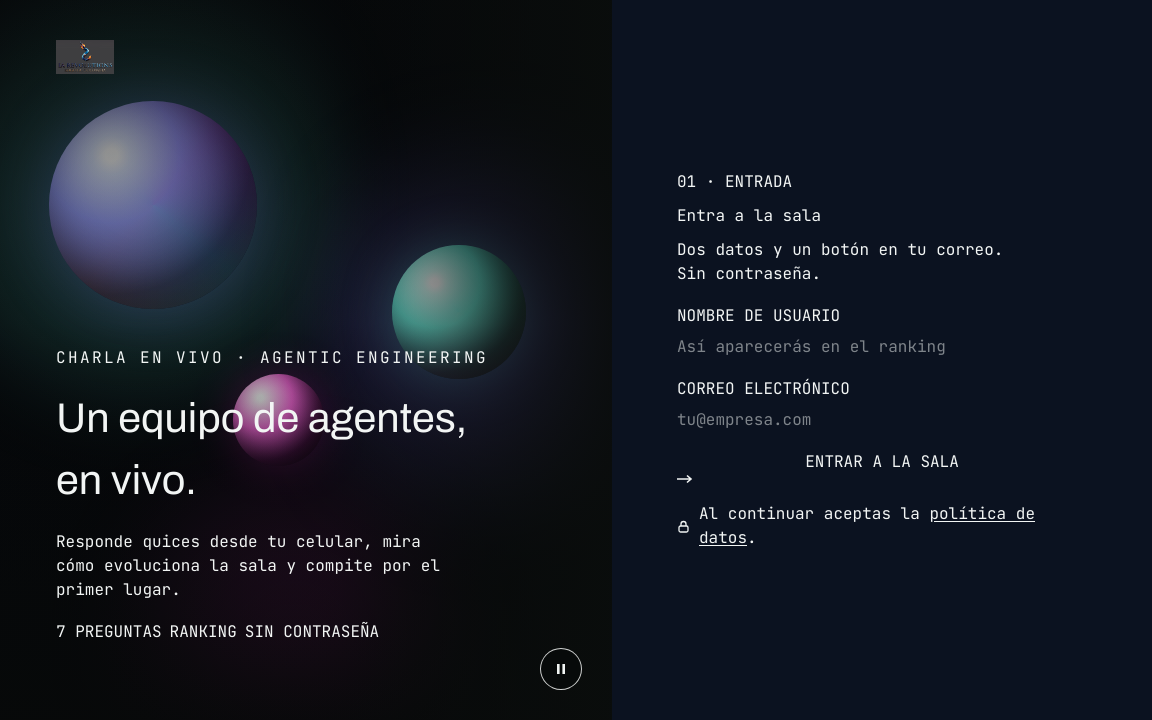
Registro › offers the suggested name on a 409
expect the button with test id "charla-submit" is shown: met, box x1=677 y1=450 x2=1087 y2=484
In the field with test id "charla-username": (882, 347) x1=677 y1=335 x2=1087 y2=359, type "José P"
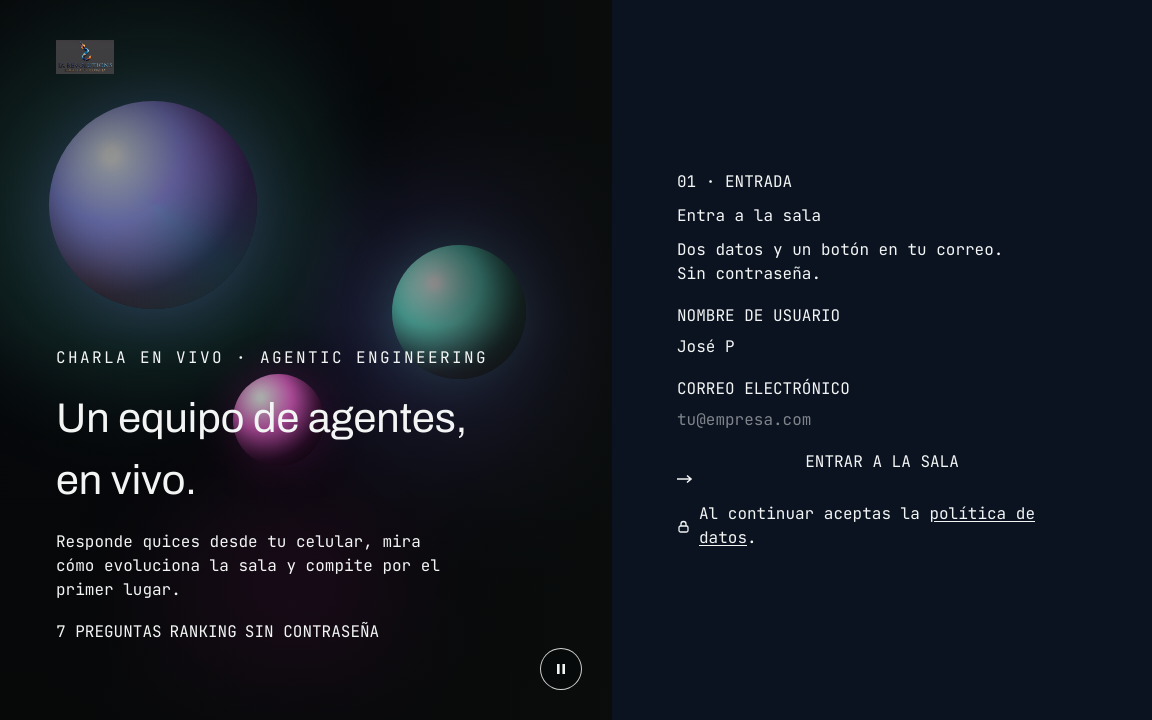
In the field with test id "charla-email": (882, 420) x1=677 y1=408 x2=1087 y2=432, type "jose@empresa.com"
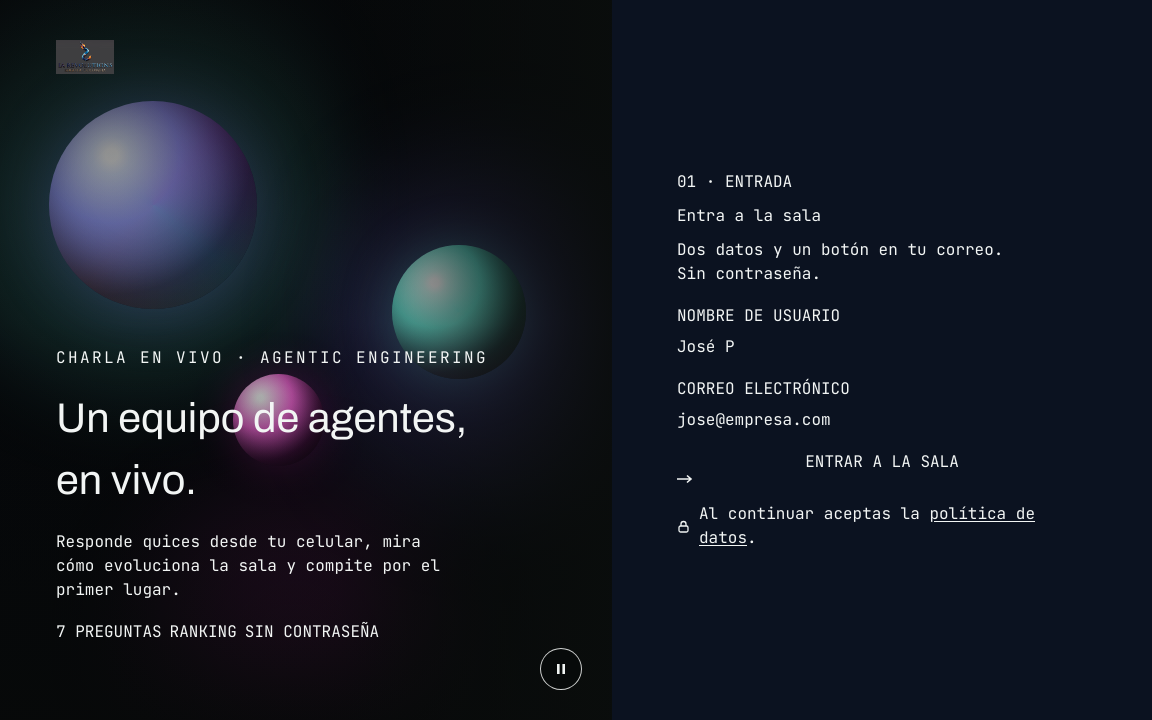
Click the button with test id "charla-submit": (882, 467) x1=677 y1=450 x2=1087 y2=484
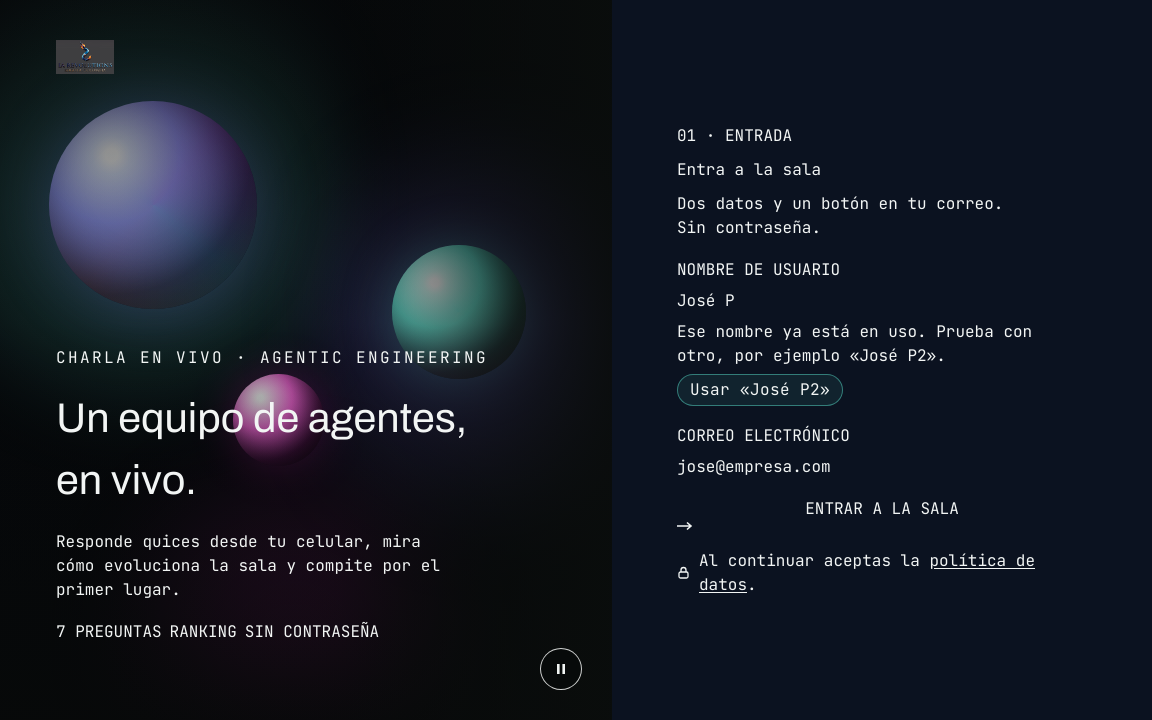
Click the button "Usar «José P2»": (760, 390) x1=677 y1=374 x2=843 y2=406
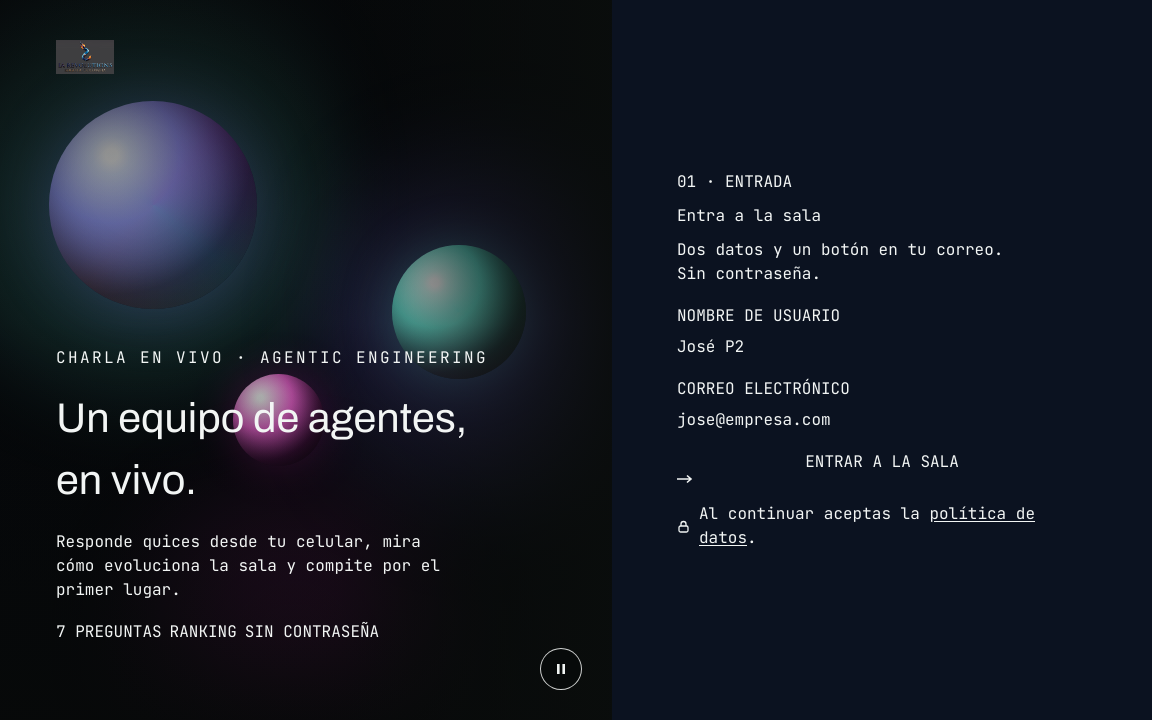
expect the field with test id "charla-username" holds "José P2": met, box x1=677 y1=335 x2=1087 y2=359
